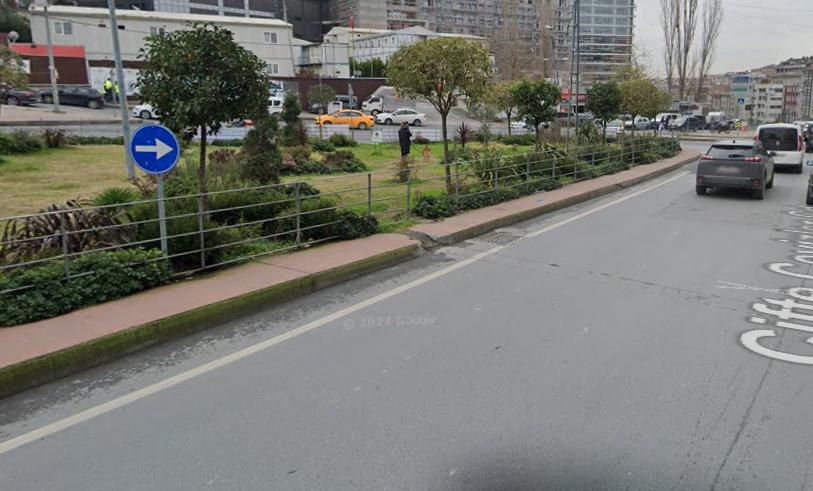turnright: (131, 128, 179, 172)
